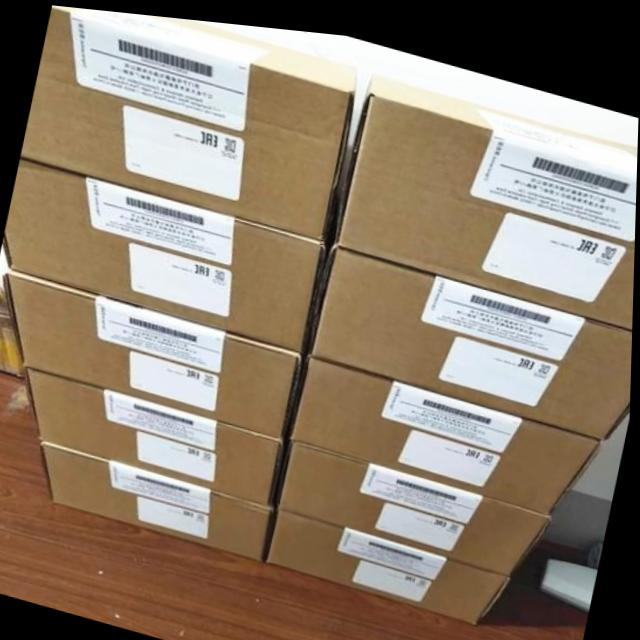box: (22, 4, 358, 232), (337, 66, 638, 316), (308, 239, 634, 428), (4, 158, 324, 345), (291, 350, 608, 503), (4, 270, 302, 431), (279, 435, 552, 566), (25, 366, 286, 498), (43, 438, 275, 555), (271, 503, 513, 613)
